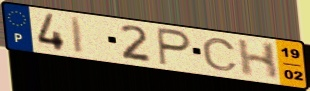2: (121, 24, 154, 64)
4: (35, 12, 67, 53)
C: (200, 37, 240, 72)
H: (236, 38, 280, 81)
I: (69, 15, 86, 56)
P: (155, 26, 194, 68)
